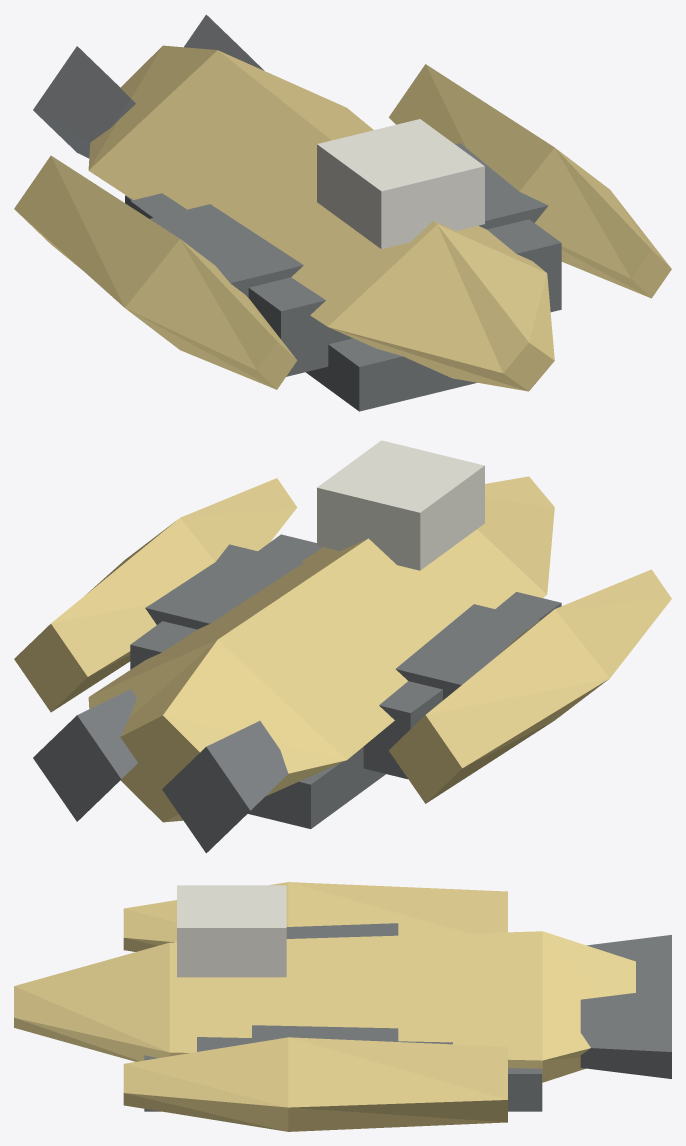
The picture shows the model from 3 angles, top to bottom: view 1: azimuth 30°, elevation 25°; view 2: azimuth 150°, elevation 25°; view 3: azimuth 270°, elevation 25°; orthographic projection. The views are drawn at different scales.
Size of the model in its own units: 4.79 by 1.95 by 6.62.
